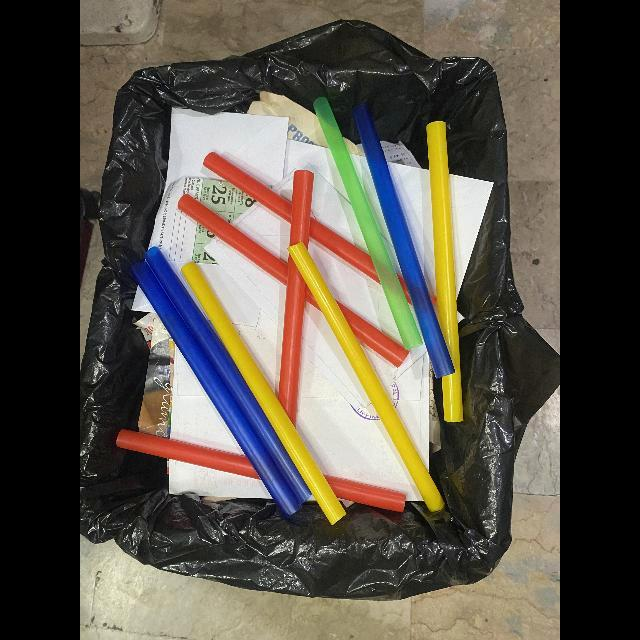paper: (170, 131, 494, 500), (216, 163, 464, 410), (131, 107, 288, 326)
